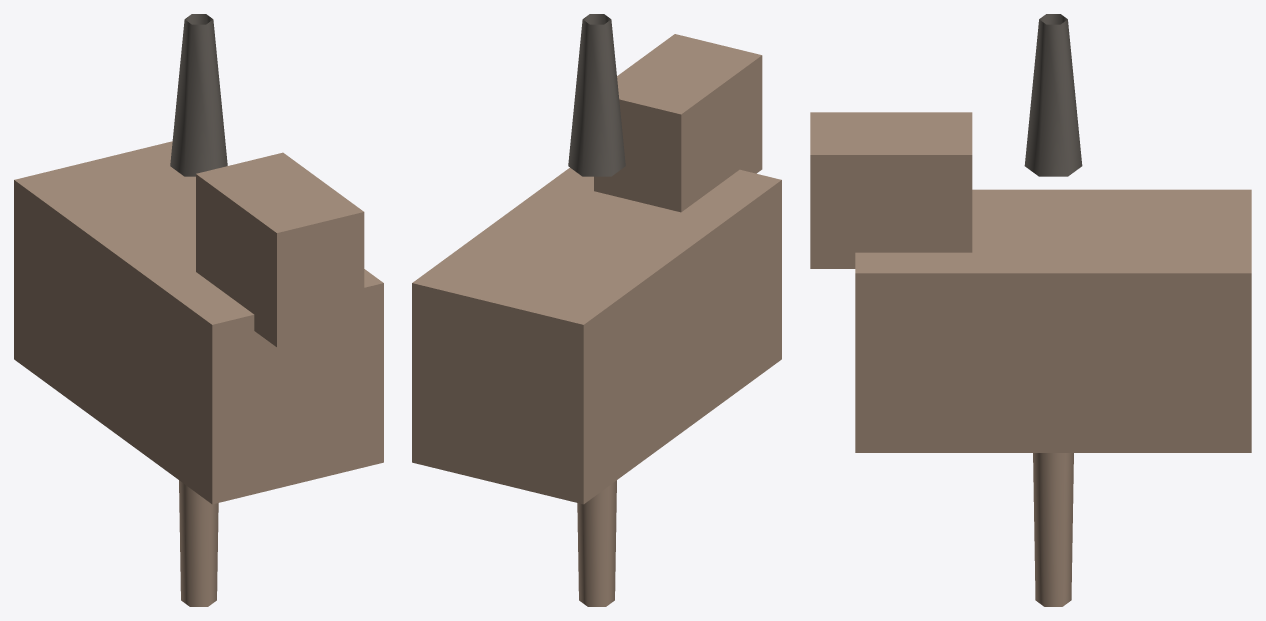
The model's file is nilgiri-tahr.glb.
3 renders of one model, left to right at view 1: azimuth 30°, elevation 25°; view 2: azimuth 150°, elevation 25°; view 3: azimuth 270°, elevation 25°, orthographic.
Parts seen in each view (by area): view 1: Torso_Node, NeckHead_Node, Horn_L_Node, Leg_0_Node; view 2: Torso_Node, NeckHead_Node, Horn_L_Node, Leg_0_Node; view 3: Torso_Node, NeckHead_Node, Horn_L_Node, Leg_0_Node.
Part boxes in pixels (x1,y1,x2,y2): Torso_Node: (14,141,383,504); NeckHead_Node: (196,152,364,347); Horn_L_Node: (170,14,227,176); Leg_0_Node: (179,480,218,606); Torso_Node: (412,168,781,504); NeckHead_Node: (594,34,762,212); Horn_L_Node: (568,14,625,176); Leg_0_Node: (577,480,616,606); Torso_Node: (855,189,1251,452); NeckHead_Node: (810,112,972,268); Horn_L_Node: (1024,14,1082,176); Leg_0_Node: (1033,453,1073,606).
Bounding box in the file's own units: 0.55 × 1.78 × 1.23.
